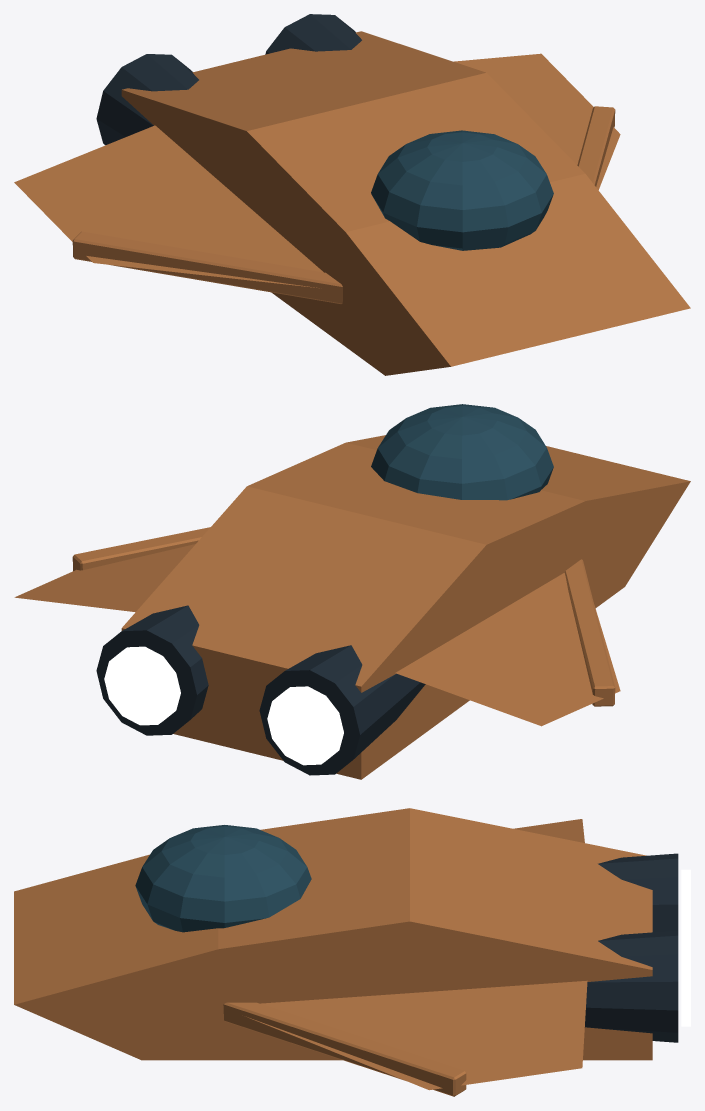
The model's file is space-shuttle.lod0.glb.
3 renders of one model, top to bottom at view 1: azimuth 30°, elevation 25°; view 2: azimuth 150°, elevation 25°; view 3: azimuth 270°, elevation 25°, orthographic. The views are drawn at different scales.
Visible parts, largest first — view 1: space-shuttle__body; view 2: space-shuttle__body; view 3: space-shuttle__body.
Boxes of the visible parts, left/top/right/bottom form: space-shuttle__body: left=14, top=14, right=690, bottom=375; space-shuttle__body: left=14, top=404, right=690, bottom=779; space-shuttle__body: left=14, top=808, right=690, bottom=1096.
Bounding box in the file's own units: 4.74 × 1.44 × 5.3.
